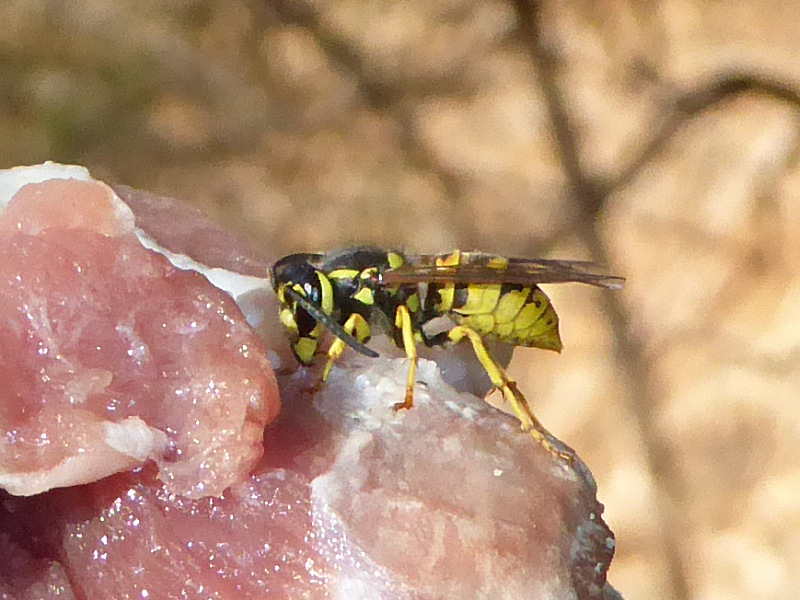chax: (251, 216, 641, 469)
